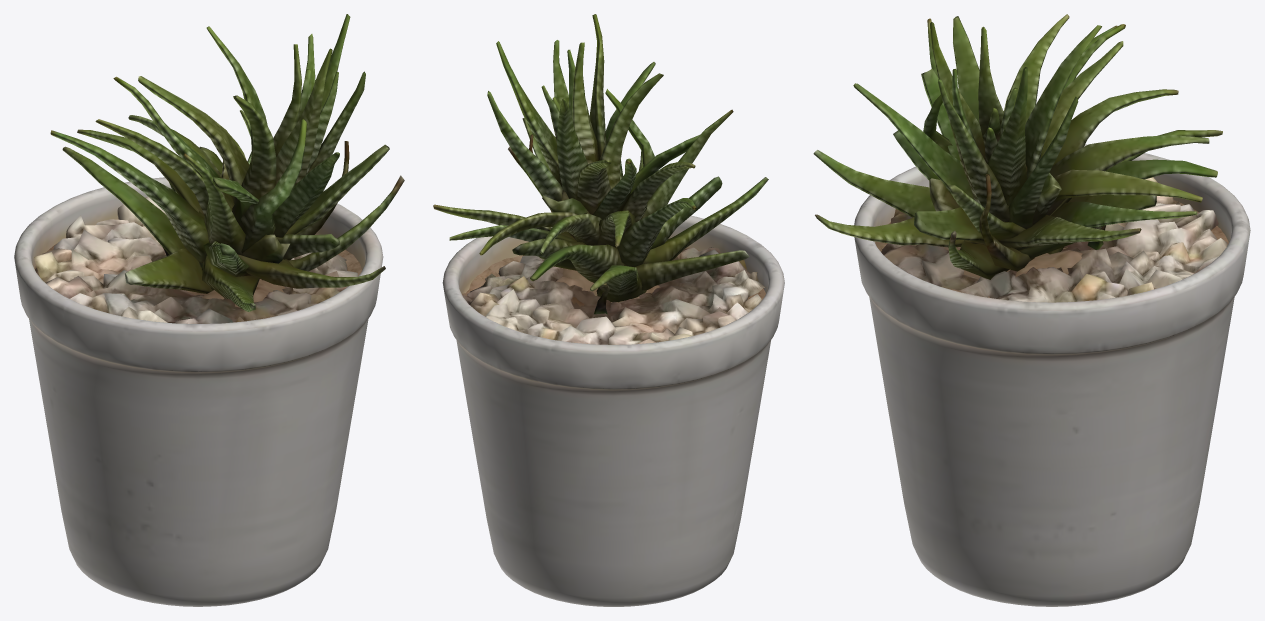
Rendered from potted_plant_04.glb.
3 views of the same model, side by side, from view 1: azimuth 30°, elevation 25°; view 2: azimuth 150°, elevation 25°; view 3: azimuth 270°, elevation 25° (orthographic). The views are drawn at different scales.
Visible parts, largest first — view 1: potted_plant_04_pot, potted_plant_04_plant, potted_plant_04_ground, potted_plant_04_dirt; view 2: potted_plant_04_pot, potted_plant_04_plant, potted_plant_04_ground, potted_plant_04_dirt; view 3: potted_plant_04_pot, potted_plant_04_plant, potted_plant_04_ground, potted_plant_04_dirt.
Boxes of the visible parts, x1,y1,x2,y2 form: potted_plant_04_pot: (14, 177, 383, 606); potted_plant_04_plant: (50, 14, 404, 311); potted_plant_04_ground: (34, 196, 357, 323); potted_plant_04_dirt: (34, 238, 362, 307); potted_plant_04_pot: (442, 215, 784, 606); potted_plant_04_plant: (433, 14, 768, 314); potted_plant_04_ground: (463, 247, 765, 344); potted_plant_04_dirt: (462, 247, 765, 306); potted_plant_04_pot: (854, 144, 1250, 606); potted_plant_04_plant: (813, 14, 1222, 279); potted_plant_04_ground: (881, 177, 1227, 302); potted_plant_04_dirt: (875, 200, 1228, 297).
Size of the model in its own units: 0.1679 by 0.2675 by 0.1848.
Materials: 1 (1 with a texture image).
